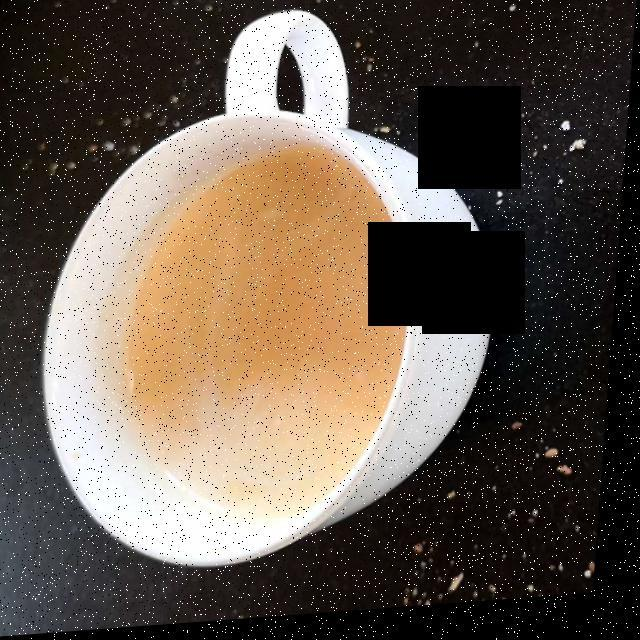coffee: (124, 156, 406, 515)
